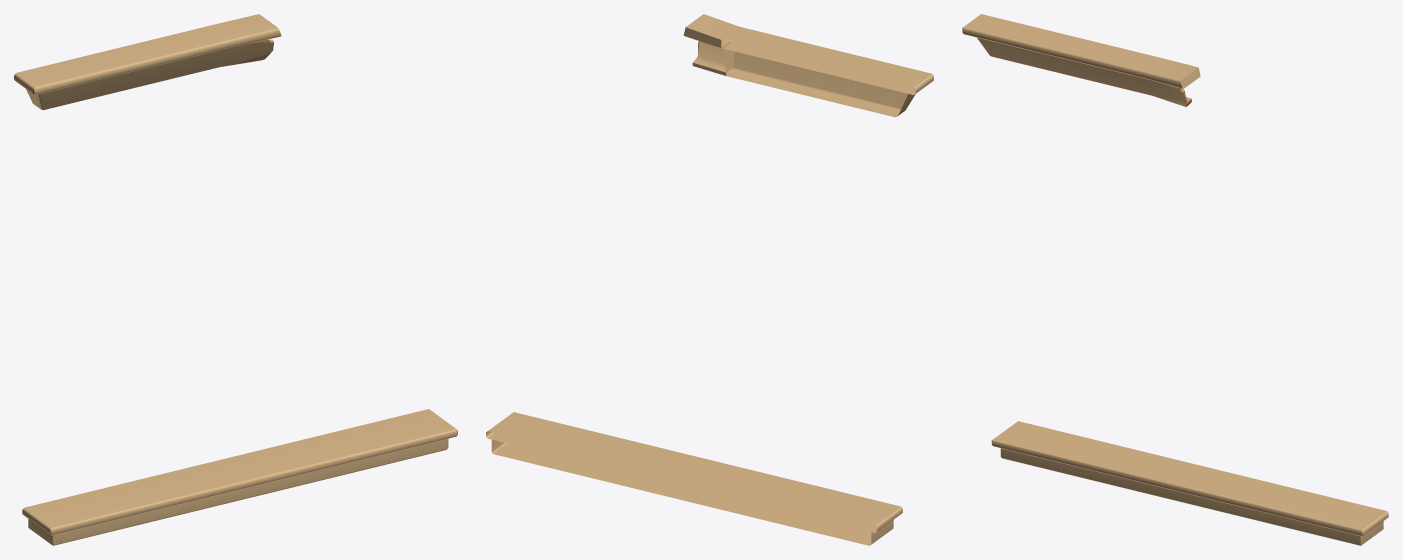
Rendered from DBK_WinBig_Trim_E_90.fbx.
The picture shows the model from 3 angles, left to right: view 1: azimuth 30°, elevation 25°; view 2: azimuth 150°, elevation 25°; view 3: azimuth 330°, elevation 25°; orthographic projection. The views are drawn at different scales.
Parts seen in each view (by area): view 1: DBK_WinBig_Trim_E_90; view 2: DBK_WinBig_Trim_E_90; view 3: DBK_WinBig_Trim_E_90.
Boxes of the visible parts, box(x1,y1,x2,y2) form: DBK_WinBig_Trim_E_90: box(14, 14, 457, 545); DBK_WinBig_Trim_E_90: box(486, 14, 933, 545); DBK_WinBig_Trim_E_90: box(962, 14, 1388, 545).
Bounding box in the file's own units: 235 × 248 × 36.3.
